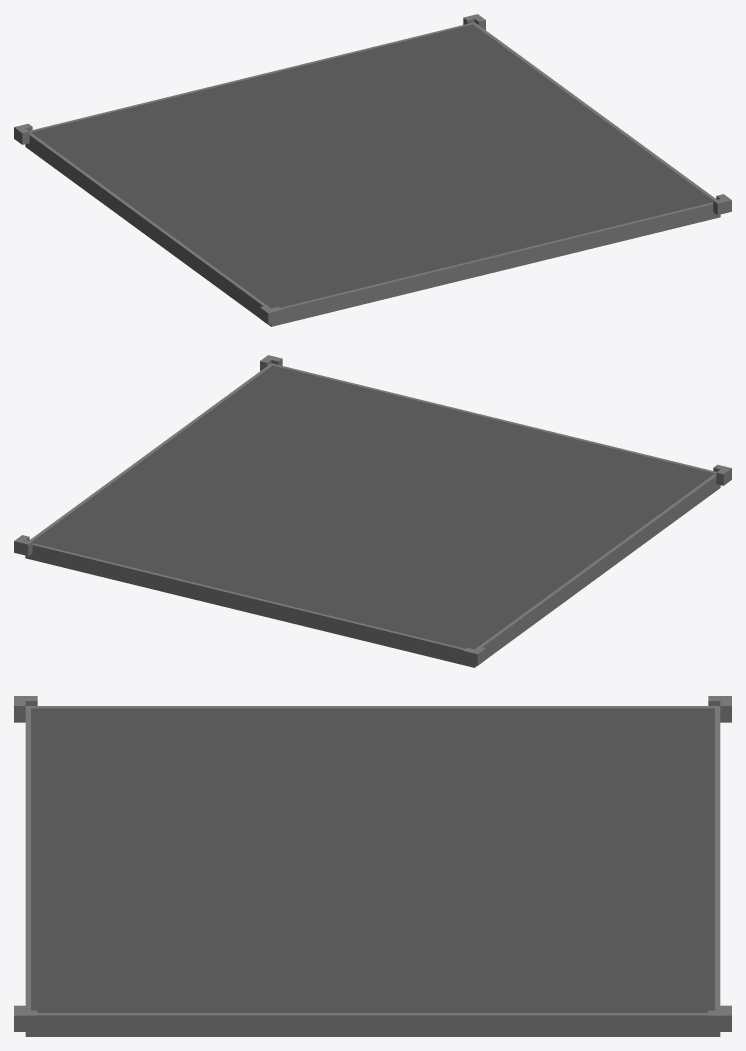
File: Floor.fbx
3 views of the same model, one above another, from view 1: azimuth 30°, elevation 25°; view 2: azimuth 150°, elevation 25°; view 3: azimuth 270°, elevation 25° (orthographic). The views are drawn at different scales.
Parts seen in each view (by area): view 1: isl_Shelf_05_Def.obj.001; view 2: isl_Shelf_05_Def.obj.001; view 3: isl_Shelf_05_Def.obj.001.
Boxes of the visible parts, x1,y1,x2,y2 form: isl_Shelf_05_Def.obj.001: (14,14,731,326); isl_Shelf_05_Def.obj.001: (14,355,731,667); isl_Shelf_05_Def.obj.001: (14,696,731,1036).
Bounding box in the file's own units: 160 × 6.1 × 152.
